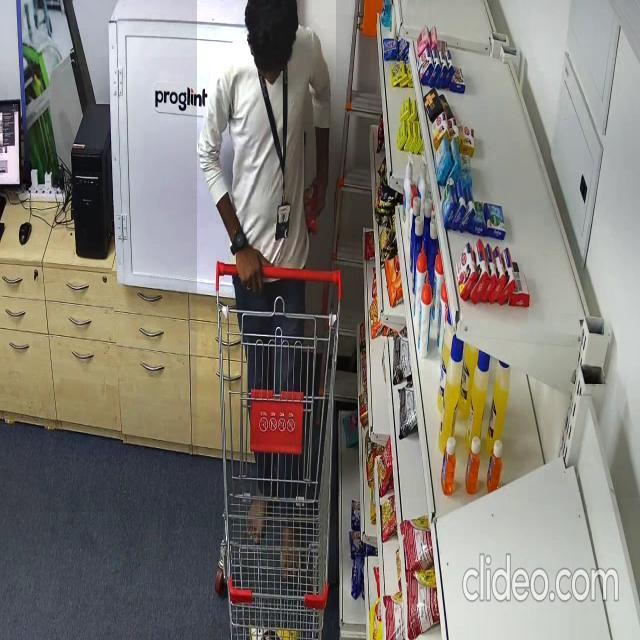Shoplifting: (197, 0, 336, 583)
